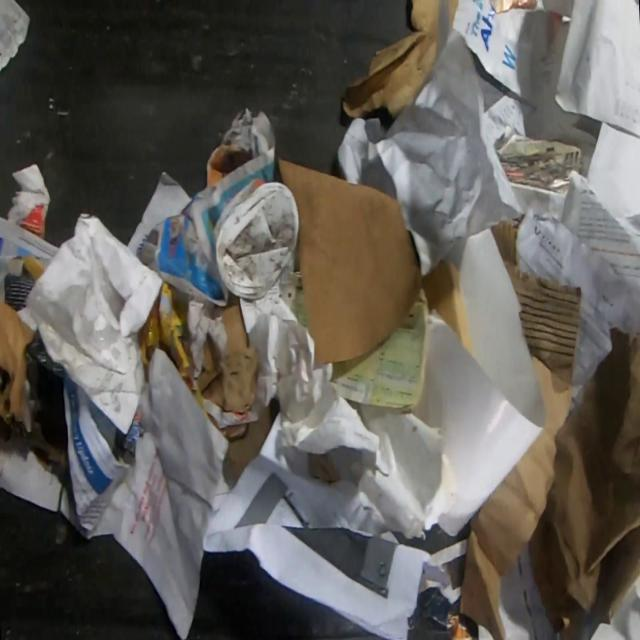cardboard: (459, 219, 583, 639), (275, 154, 424, 368), (0, 257, 74, 499), (340, 0, 441, 122), (137, 281, 209, 419), (196, 293, 260, 415), (422, 256, 476, 359), (495, 133, 583, 195), (218, 401, 276, 491), (5, 162, 53, 241), (205, 143, 254, 188), (307, 451, 339, 484), (447, 0, 459, 33)
rigid_plastic: (213, 180, 301, 304)
